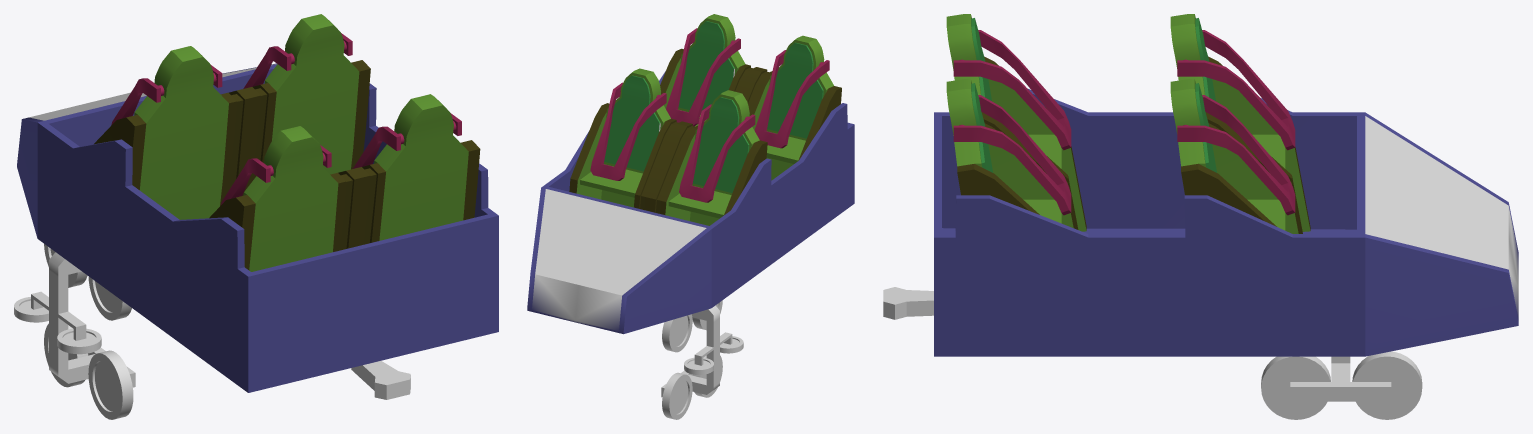
Rendered from Car.fbx.
3 renders of one model, left to right at view 1: azimuth 30°, elevation 25°; view 2: azimuth 150°, elevation 25°; view 3: azimuth 270°, elevation 25°, orthographic. The views are drawn at different scales.
Parts seen in each view (by area): view 1: Body, Seat, Wheels, Struts, Nose, Wheels (Side), Connection Back; view 2: Seat, Nose, Body, Wheels, Struts, Wheels (Side); view 3: Body, Seat, Nose, Wheels, Struts, Connection Back.
Part boxes in pixels (bbox=[...]): Body: bbox=[37, 64, 498, 392]; Seat: bbox=[94, 14, 480, 271]; Wheels: bbox=[44, 244, 133, 419]; Struts: bbox=[31, 252, 135, 387]; Nose: bbox=[17, 63, 276, 238]; Wheels (Side): bbox=[14, 297, 101, 354]; Connection Back: bbox=[351, 361, 410, 399]; Seat: bbox=[569, 14, 841, 225]; Nose: bbox=[527, 187, 711, 334]; Body: bbox=[541, 71, 854, 307]; Wheels: bbox=[662, 300, 722, 419]; Struts: bbox=[661, 305, 732, 397]; Wheels (Side): bbox=[684, 336, 743, 374]; Body: bbox=[934, 88, 1365, 356]; Seat: bbox=[946, 14, 1310, 233]; Nose: bbox=[1365, 112, 1518, 356]; Wheels: bbox=[1261, 351, 1422, 419]; Struts: bbox=[1290, 356, 1391, 401]; Connection Back: bbox=[883, 287, 933, 319].
Size of the model in its own units: 235 by 482 by 342.
